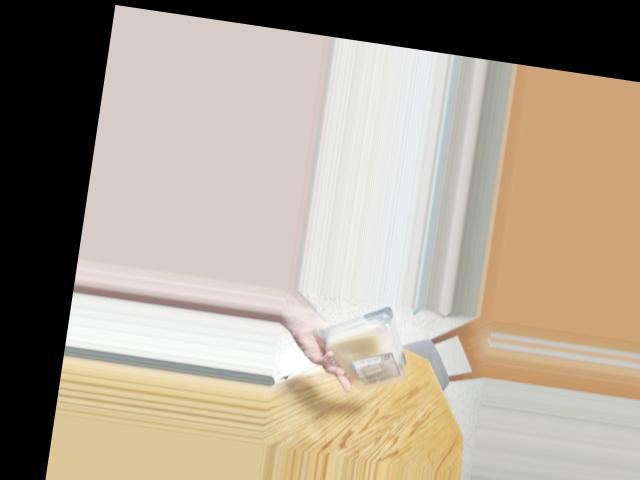cheese: (312, 304, 415, 382)
